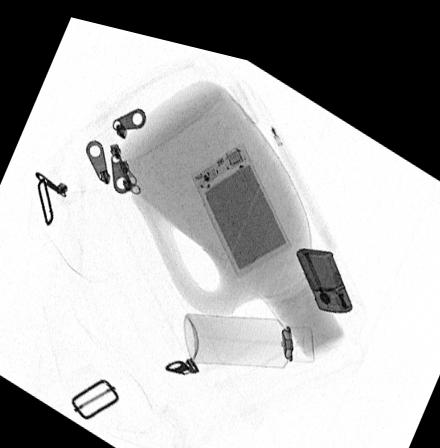Lighter: (295, 231, 353, 296)
Powerbank: (191, 128, 292, 266)
Sprayer: (183, 303, 315, 354)
